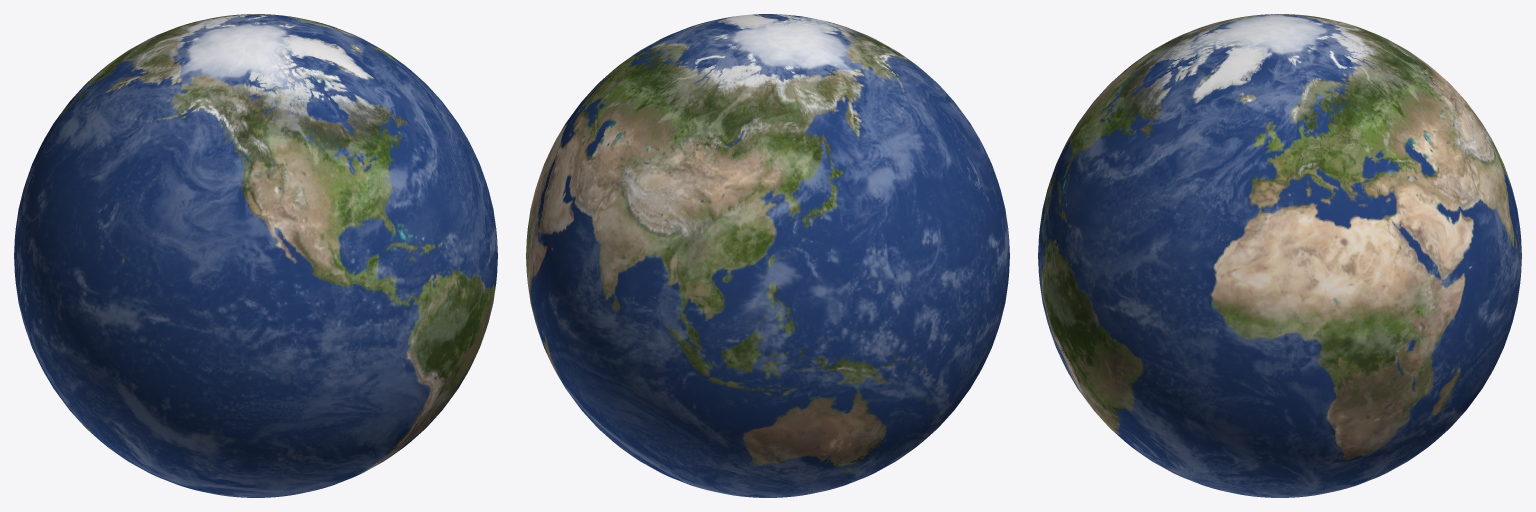
The model's file is earth.glb.
The picture shows the model from 3 angles, left to right: view 1: azimuth 30°, elevation 25°; view 2: azimuth 150°, elevation 25°; view 3: azimuth 270°, elevation 25°; orthographic projection.
Bounding box in the file's own units: 2 × 2 × 2.
Materials: 1 (1 with a texture image).
